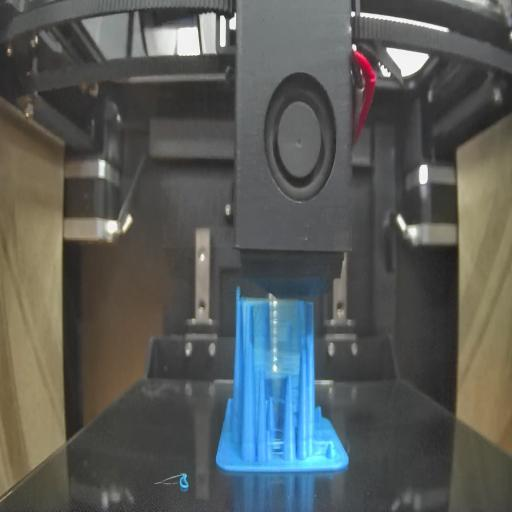stringing: (255, 300, 303, 378), (268, 388, 287, 464)
